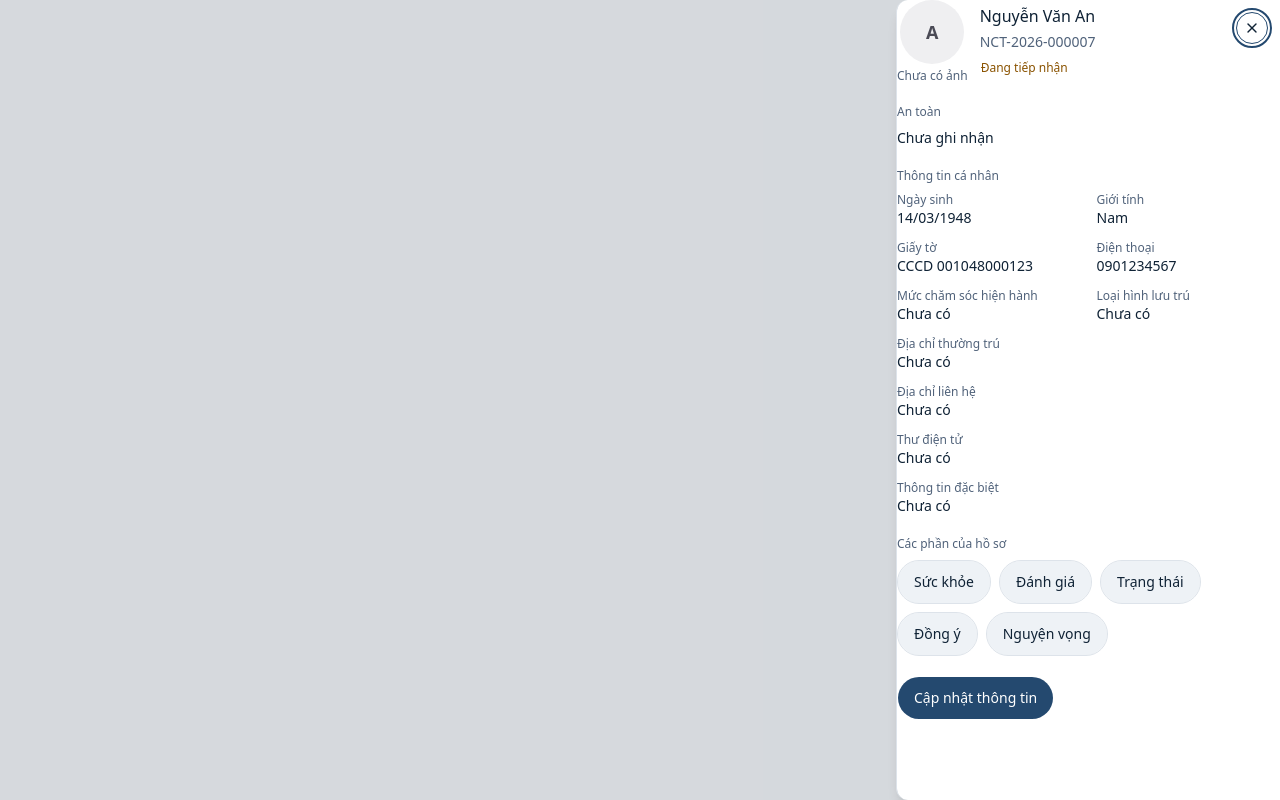
Test: ResidentDetail › 001 T033: nút Sức khỏe mở khung riêng chồng lên hồ sơ, nạp hồ sơ ban đầu và mục sức khỏe (DESIGN.md 5)
Click the button "Sức khỏe": (944,582) [897,560,991,604]
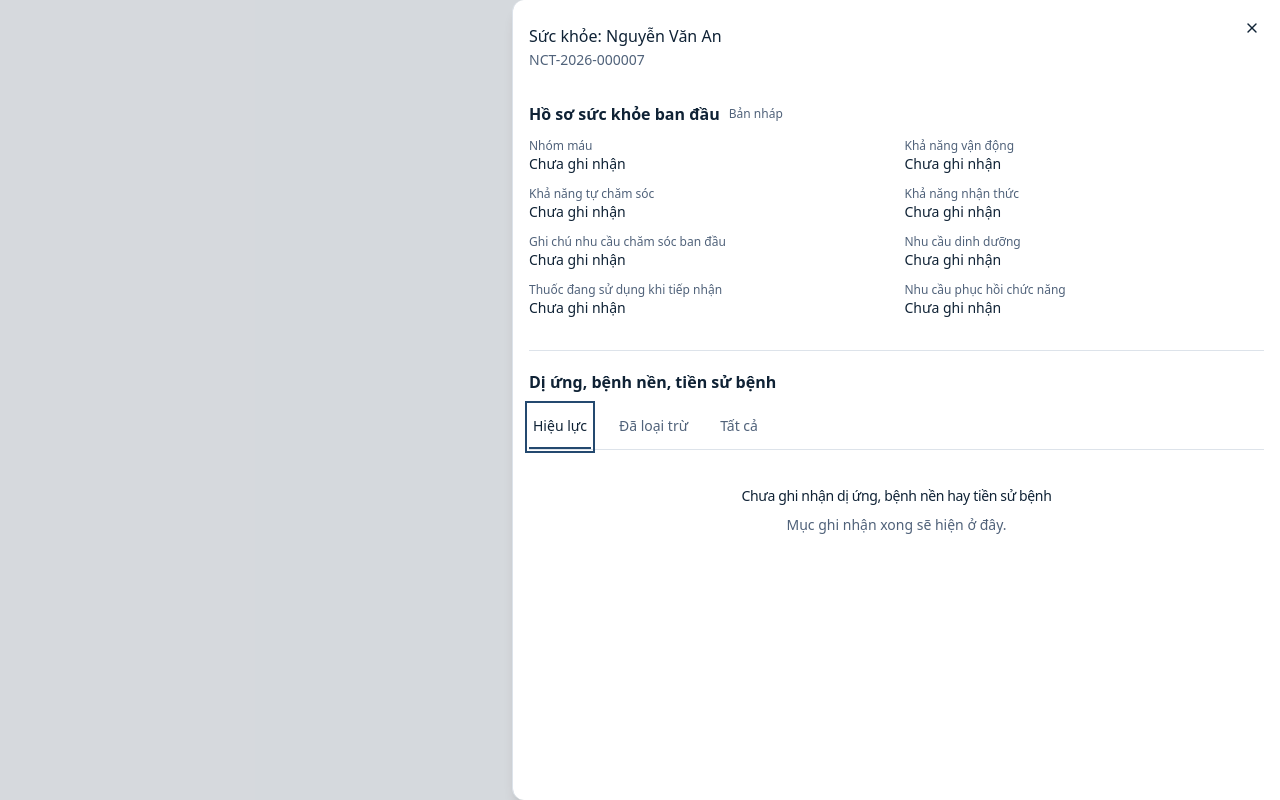
Expected: the heading "Hồ sơ sức khỏe ban đầu" is shown, [529,103,720,125]
Expected: the text "Chưa ghi nhận dị ứng, bệnh nền hay tiền sử bệnh" is shown, [742,486,1051,506]
